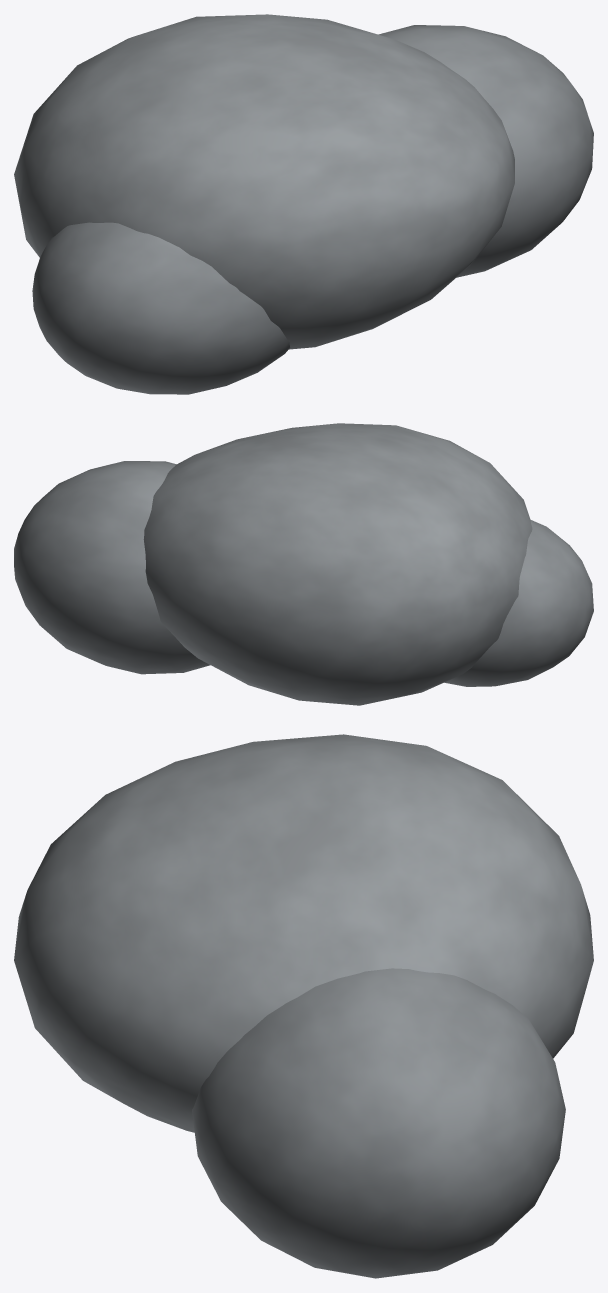
File: rock_b.hi.glb
3 renders of one model, top to bottom at view 1: azimuth 30°, elevation 25°; view 2: azimuth 150°, elevation 25°; view 3: azimuth 270°, elevation 25°, orthographic. The views are drawn at different scales.
Parts seen in each view (by area): view 1: rock; view 2: rock; view 3: rock.
Boxes of the visible parts, x1,y1,x2,y2 form: rock: [14, 14, 593, 394]; rock: [14, 423, 593, 705]; rock: [14, 734, 593, 1278].
Bounding box in the file's own units: 3.28 × 1.5 × 2.23.
1 material, 1 textured.
